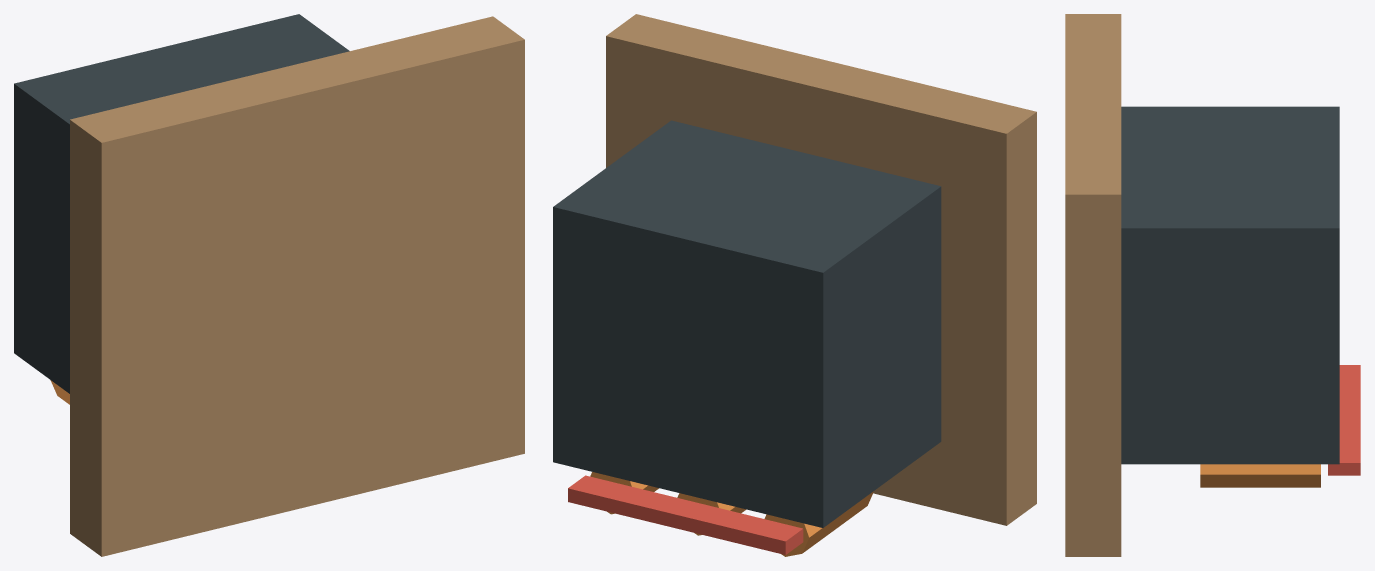
File: ammo_depot.glb
3 views of the same model, side by side, from view 1: azimuth 30°, elevation 25°; view 2: azimuth 150°, elevation 25°; view 3: azimuth 270°, elevation 25° (orthographic). The views are drawn at different scales.
Visible parts, largest first — view 1: foundation, body; view 2: body, foundation, stripe, shell; view 3: body, foundation, shell.002, stripe.
Boxes of the visible parts, x1=… form: foundation: x1=70, y1=16, x2=524, y2=556; body: x1=14, y1=14, x2=349, y2=393; body: x1=553, y1=120, x2=941, y2=527; foundation: x1=606, y1=14, x2=1036, y2=525; stripe: x1=568, y1=475, x2=803, y2=554; shell: x1=764, y1=491, x2=873, y2=556; body: x1=1121, y1=106, x2=1339, y2=464; foundation: x1=1065, y1=14, x2=1121, y2=556; shell.002: x1=1200, y1=464, x2=1320, y2=487; stripe: x1=1328, y1=365, x2=1360, y2=475.
Size of the model in its own units: 0.92 by 0.86 by 0.635.
